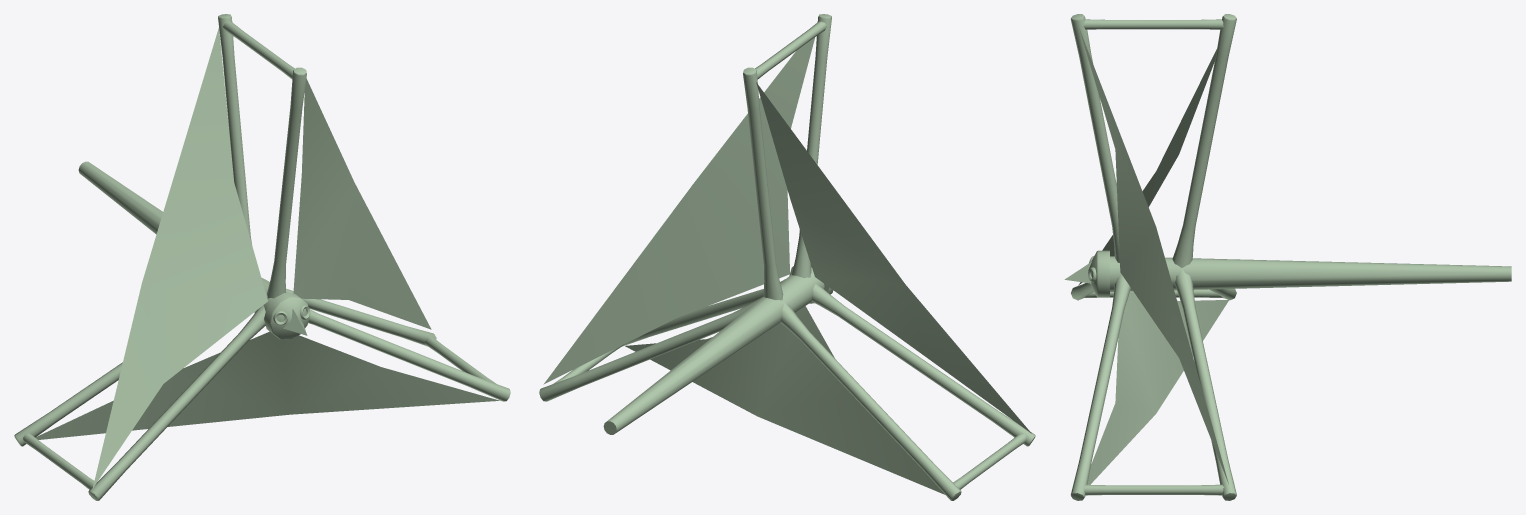
File: MESH_HeliceMoulin.fbx
3 renders of one model, left to right at view 1: azimuth 30°, elevation 25°; view 2: azimuth 150°, elevation 25°; view 3: azimuth 270°, elevation 25°, orthographic.
Parts seen in each view (by area): view 1: MESH_HeliceMoulin; view 2: MESH_HeliceMoulin; view 3: MESH_HeliceMoulin.
Part boxes in pixels (x1,y1,x2,y2): MESH_HeliceMoulin: [14, 14, 510, 500]; MESH_HeliceMoulin: [539, 14, 1035, 500]; MESH_HeliceMoulin: [1064, 14, 1511, 500].
Size of the model in its own units: 10.21 by 9.35 by 8.87.
